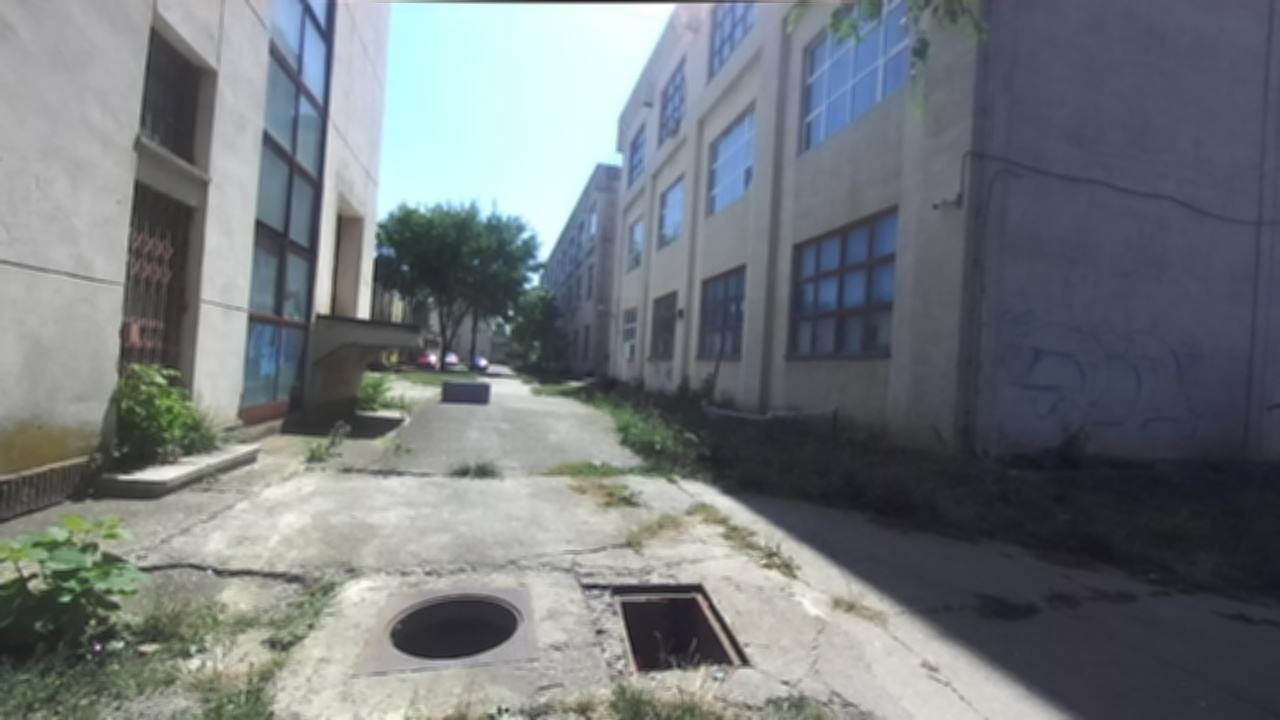drain: (608, 577, 758, 673), (378, 587, 525, 662)
